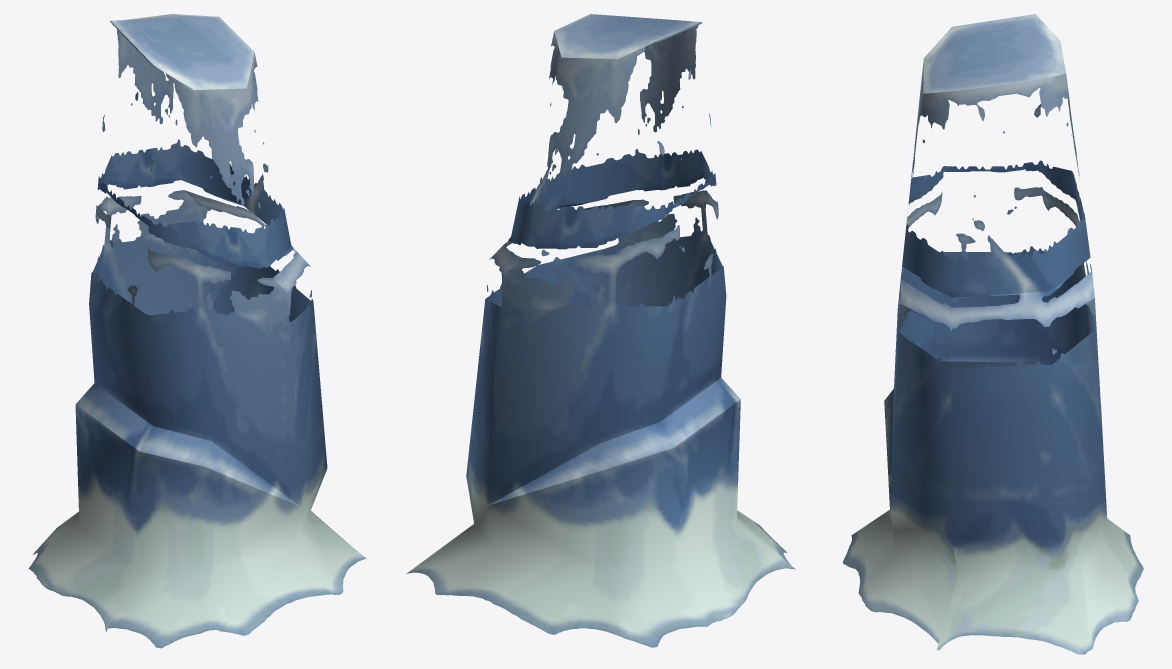
File: pillar2_19ea529d.glb
3 renders of one model, left to right at view 1: azimuth 30°, elevation 25°; view 2: azimuth 150°, elevation 25°; view 3: azimuth 270°, elevation 25°, orthographic. The views are drawn at different scales.
Bounding box in the file's own units: 1.78 × 3.16 × 1.72.
Materials: 1 (1 with a texture image).
